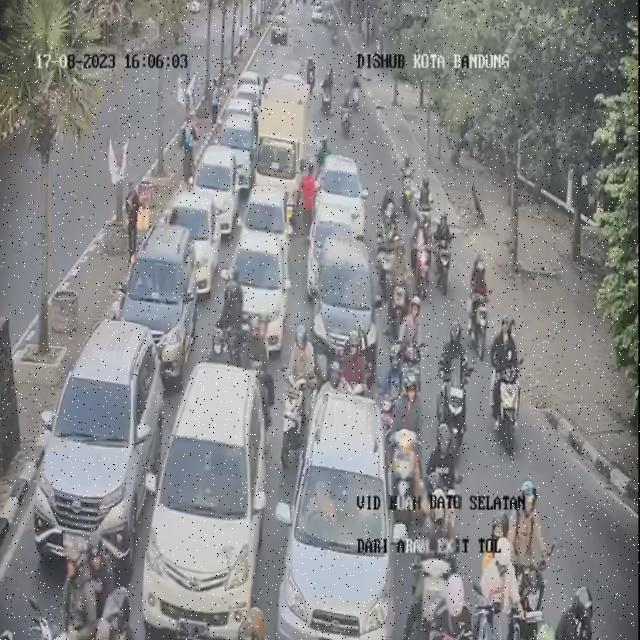cars: (146, 362, 274, 639), (38, 320, 164, 554), (287, 388, 403, 640), (122, 223, 200, 371), (230, 189, 295, 350), (312, 227, 381, 378), (167, 187, 221, 288), (308, 198, 360, 289), (317, 155, 366, 235), (195, 146, 238, 232), (221, 110, 258, 184), (237, 72, 265, 116), (272, 8, 296, 44), (239, 70, 265, 96)
motorcycle: (504, 470, 556, 610), (417, 479, 462, 640), (63, 530, 117, 639), (284, 319, 320, 459), (475, 514, 515, 640), (438, 321, 470, 463), (494, 316, 527, 450), (429, 420, 459, 530), (386, 432, 418, 524), (467, 255, 496, 351), (232, 594, 280, 640), (386, 248, 411, 336), (92, 597, 142, 640), (340, 327, 371, 392), (431, 211, 455, 289), (373, 198, 395, 274), (410, 212, 431, 288), (396, 144, 419, 213), (412, 177, 432, 234), (341, 83, 358, 140), (379, 179, 396, 230), (324, 67, 338, 119), (318, 131, 336, 171), (320, 67, 334, 118), (313, 130, 330, 169), (325, 20, 340, 49), (307, 51, 318, 90)
truck: (258, 83, 306, 222)
